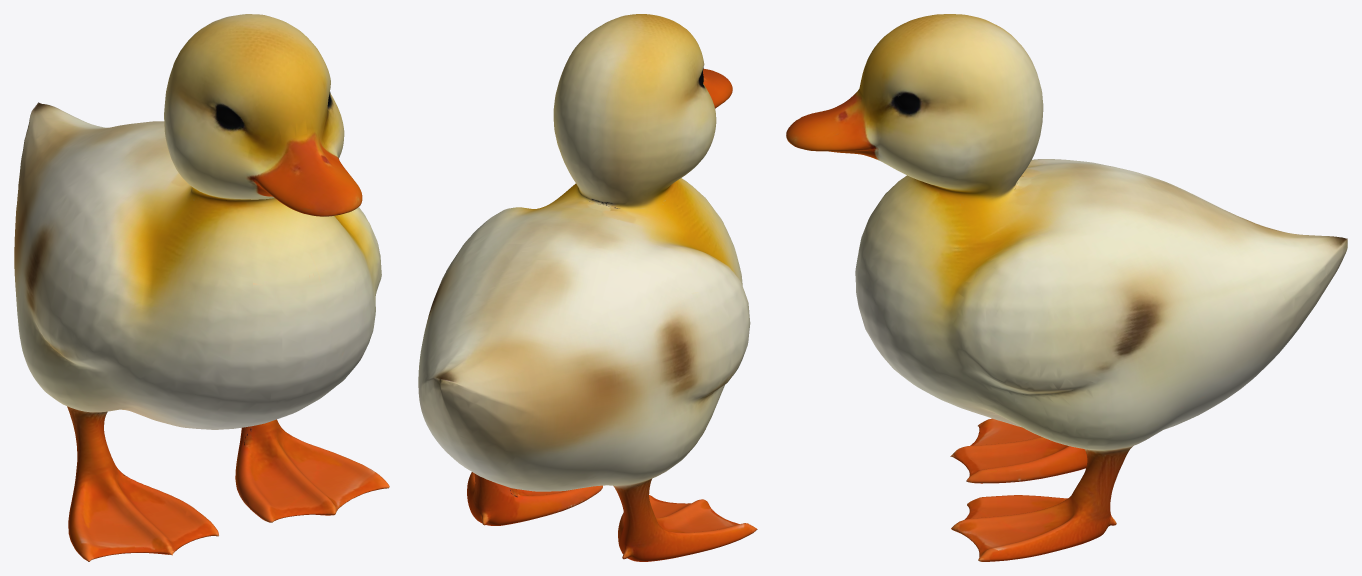
The model's file is vet_animal_duckling.glb.
The picture shows the model from 3 angles, left to right: view 1: azimuth 30°, elevation 25°; view 2: azimuth 150°, elevation 25°; view 3: azimuth 270°, elevation 25°; orthographic projection. The views are drawn at different scales.
Parts seen in each view (by area): view 1: model; view 2: model; view 3: model.
Part boxes in pixels (box(x1,y1,x2,y2)): model: box(14, 14, 389, 561); model: box(418, 14, 757, 561); model: box(786, 14, 1347, 561).
Bounding box in the file's own units: 1.09 × 1.77 × 1.9.
1 material, 1 textured.
